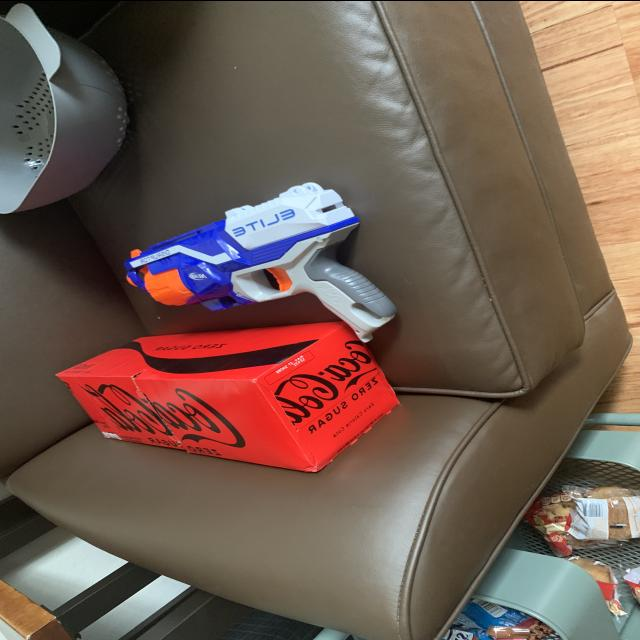nerf-maverik: (117, 176, 410, 348)
